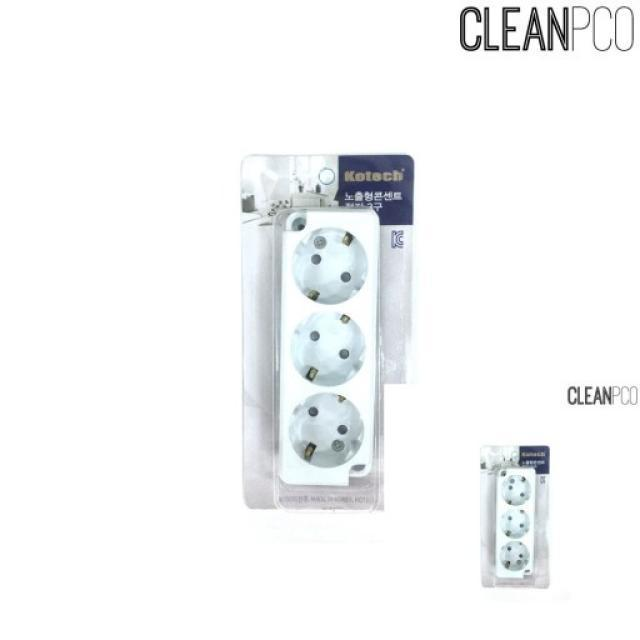typeb: (195, 165, 421, 532), (449, 416, 559, 640)
